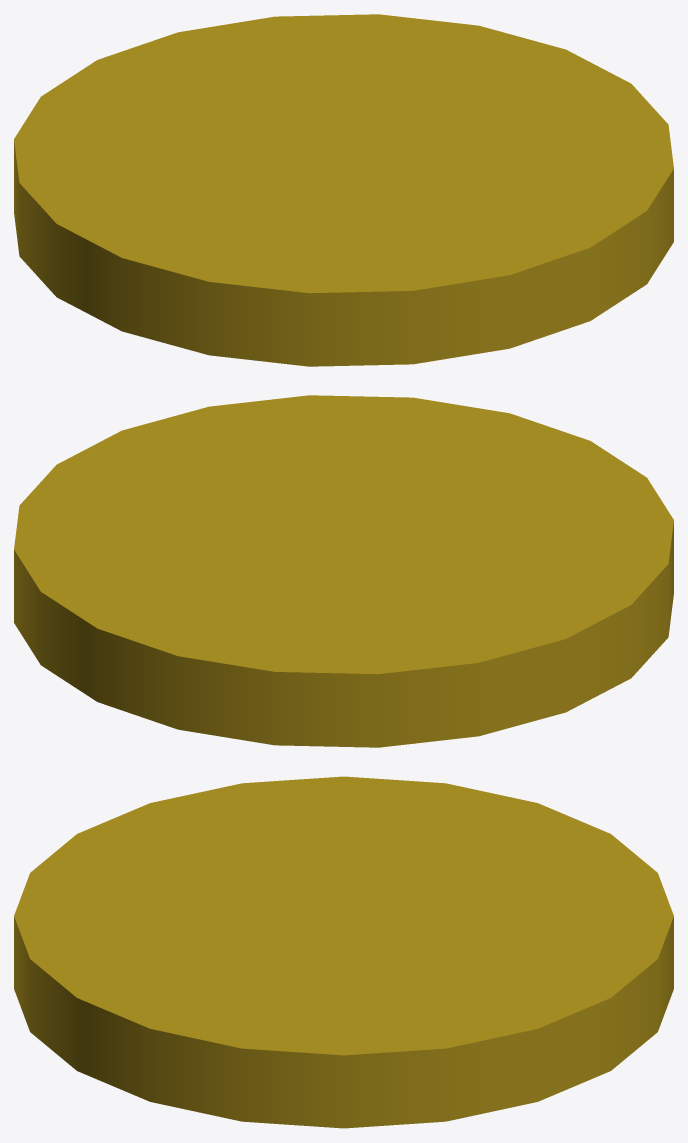
Rendered from TokenBrown.fbx.
3 views of the same model, one above another, from view 1: azimuth 30°, elevation 25°; view 2: azimuth 150°, elevation 25°; view 3: azimuth 270°, elevation 25° (orthographic).
Visible parts, largest first — view 1: pCylinder1; view 2: pCylinder1; view 3: pCylinder1.
Part boxes in pixels (box(x1,y1,x2,y2)): pCylinder1: box(14, 14, 673, 366); pCylinder1: box(14, 395, 673, 747); pCylinder1: box(14, 776, 673, 1128).
Size of the model in its own units: 2 by 0.2444 by 2.
Materials: 1 (1 with a texture image).
